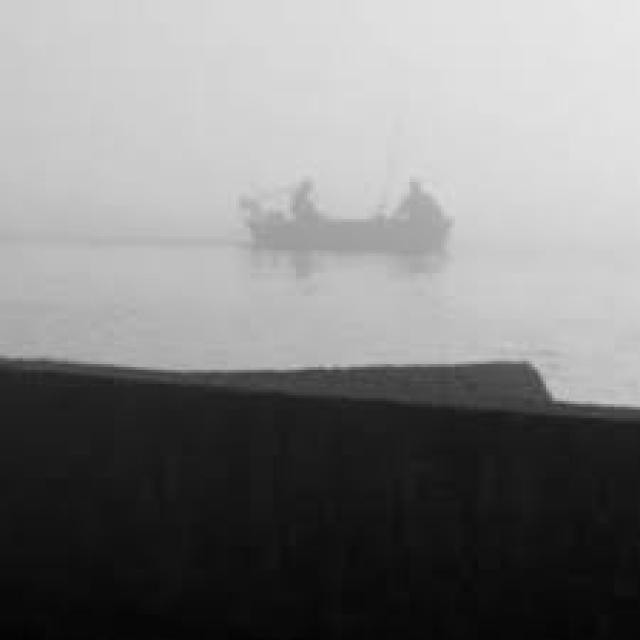fishing boat: (240, 160, 453, 256)
